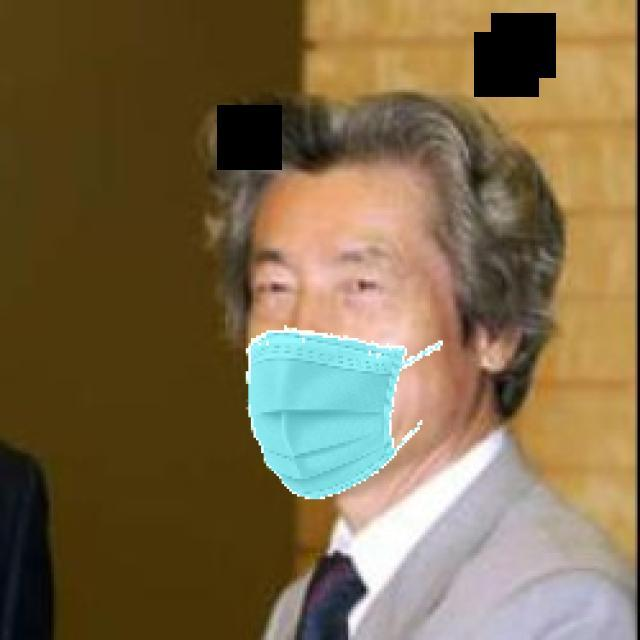surgical: (247, 175, 436, 488)
